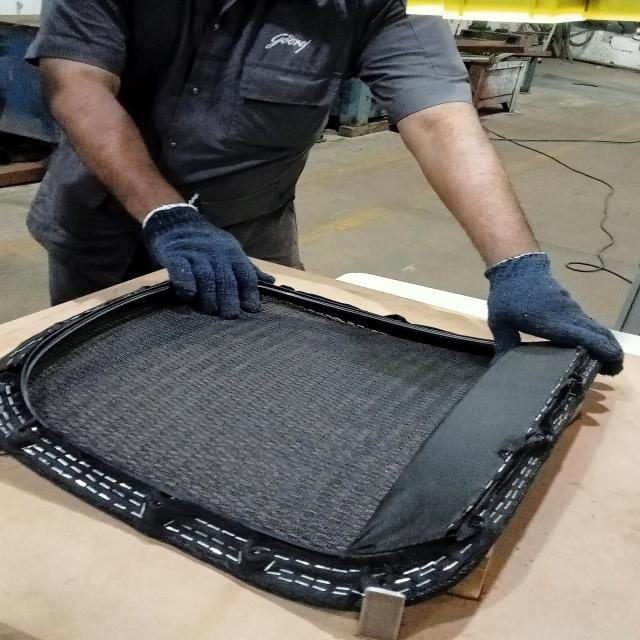Gloves-Detection: (462, 249, 622, 367), (121, 196, 277, 317)
